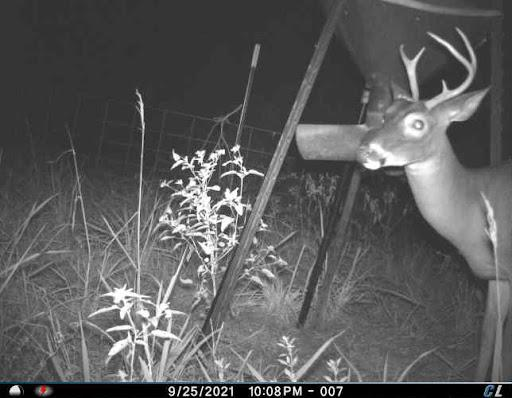Deer: (353, 19, 512, 380)
